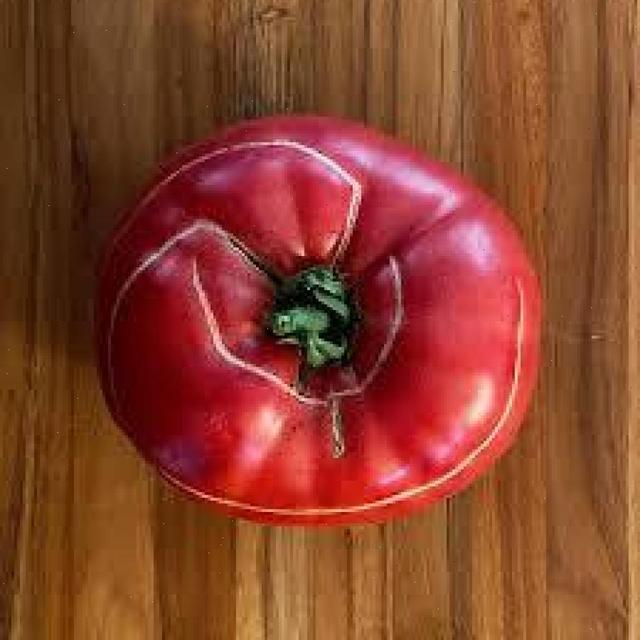Cracking Fruit: (119, 109, 261, 269)
